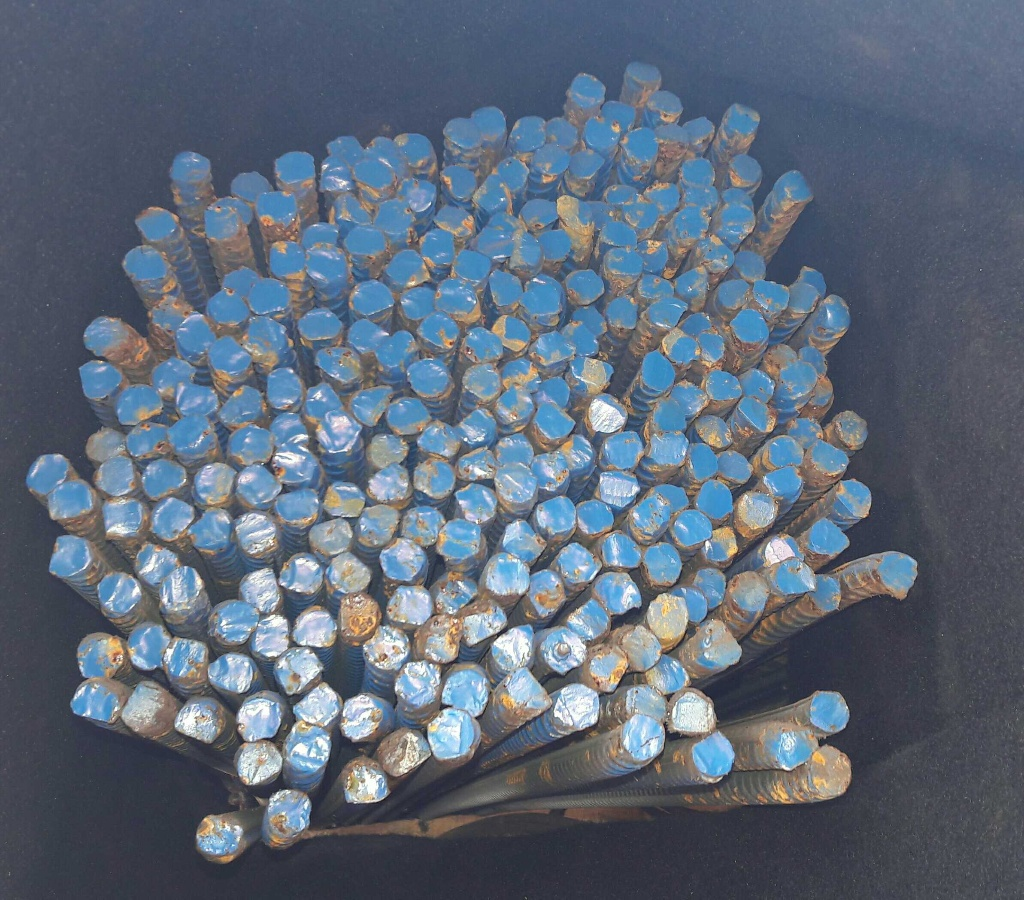dipstick: (429, 709, 480, 761), (805, 745, 852, 798), (282, 722, 331, 772), (380, 727, 430, 776), (669, 687, 717, 736), (121, 681, 168, 731), (174, 694, 221, 743), (70, 679, 120, 723), (276, 647, 323, 693), (554, 683, 600, 730), (540, 629, 586, 676), (458, 600, 508, 643), (77, 633, 123, 679), (594, 572, 642, 616), (191, 462, 237, 507), (337, 592, 380, 640), (566, 598, 611, 643), (293, 683, 339, 727), (506, 667, 553, 710), (428, 571, 476, 613), (115, 384, 164, 425), (210, 601, 259, 642), (697, 620, 741, 665), (235, 740, 281, 783), (364, 627, 410, 670), (396, 661, 442, 704), (491, 624, 534, 670), (127, 623, 168, 671), (152, 358, 196, 402), (355, 505, 400, 548), (380, 538, 425, 581), (387, 584, 434, 625), (440, 670, 487, 711), (137, 542, 180, 586), (190, 507, 234, 550), (163, 638, 208, 680), (623, 714, 665, 759), (340, 695, 381, 741), (620, 626, 661, 672), (877, 553, 918, 599), (587, 645, 627, 692), (227, 424, 275, 463), (292, 607, 337, 648), (493, 462, 538, 503), (82, 316, 128, 356), (196, 815, 242, 855), (422, 615, 462, 661), (237, 510, 279, 553), (149, 498, 193, 539), (159, 566, 203, 607), (209, 653, 253, 694), (239, 568, 280, 612), (367, 464, 413, 503), (342, 766, 390, 803), (269, 790, 310, 833), (693, 732, 734, 775), (503, 520, 543, 564), (235, 465, 280, 504), (141, 458, 187, 496), (49, 535, 90, 577), (99, 571, 141, 612), (281, 552, 323, 593), (777, 728, 818, 770), (250, 615, 290, 658), (647, 654, 690, 694), (558, 542, 601, 582), (272, 444, 316, 483), (648, 593, 687, 637), (436, 519, 481, 557), (528, 569, 566, 614), (167, 416, 214, 452), (414, 458, 455, 499), (738, 490, 779, 531), (245, 317, 285, 359), (26, 453, 69, 492), (237, 700, 280, 739), (306, 243, 349, 282), (486, 557, 529, 596), (79, 360, 123, 398), (315, 410, 359, 448), (102, 496, 142, 537), (328, 553, 369, 593), (407, 357, 450, 395), (148, 295, 192, 332), (48, 481, 92, 518), (387, 398, 431, 435), (455, 409, 499, 446), (122, 245, 167, 281), (178, 314, 219, 353), (456, 484, 497, 523), (572, 355, 613, 394), (810, 690, 849, 731), (602, 431, 644, 469), (773, 556, 815, 594), (387, 249, 430, 286), (218, 386, 262, 422), (596, 470, 640, 506), (315, 347, 361, 381), (210, 337, 251, 375), (536, 399, 574, 440), (625, 686, 667, 723), (348, 281, 395, 314), (207, 288, 250, 324), (310, 517, 353, 553), (435, 278, 478, 314), (401, 507, 440, 546), (730, 571, 769, 610), (352, 387, 392, 425), (462, 361, 502, 399), (419, 312, 459, 350), (266, 369, 303, 410), (644, 543, 681, 584), (462, 326, 503, 363), (324, 481, 366, 517), (417, 422, 459, 458), (175, 382, 218, 417), (126, 421, 169, 456), (249, 278, 292, 313), (496, 386, 535, 424), (588, 394, 627, 432), (95, 459, 135, 496), (834, 479, 871, 519), (671, 510, 712, 546), (810, 295, 851, 331), (537, 496, 576, 533), (634, 494, 671, 533), (737, 396, 776, 433), (473, 174, 509, 214), (807, 440, 849, 474), (86, 427, 129, 460), (453, 448, 497, 480), (565, 269, 603, 306), (376, 331, 415, 367), (521, 280, 560, 316), (810, 518, 850, 553), (135, 207, 178, 239), (532, 332, 575, 364), (272, 413, 310, 449), (562, 321, 600, 357), (348, 319, 389, 352), (276, 490, 319, 521), (298, 308, 341, 339), (558, 435, 594, 472), (477, 224, 514, 260), (492, 315, 530, 350), (691, 569, 725, 608), (500, 359, 539, 393), (698, 480, 732, 519), (697, 236, 735, 270), (650, 430, 688, 464), (695, 414, 733, 448), (369, 435, 408, 468), (353, 158, 394, 189), (434, 204, 475, 235), (420, 229, 455, 265), (604, 533, 640, 568), (738, 368, 773, 404), (763, 533, 805, 563), (674, 586, 708, 623), (663, 329, 700, 363), (780, 360, 817, 394), (376, 199, 414, 232), (575, 500, 613, 533), (648, 295, 686, 328), (808, 573, 841, 611), (257, 192, 296, 224), (642, 351, 674, 390), (344, 223, 387, 252), (400, 286, 436, 320), (568, 72, 604, 106), (754, 279, 790, 313), (731, 308, 767, 342), (717, 451, 753, 485), (723, 103, 760, 136), (444, 117, 482, 149), (270, 241, 305, 275), (395, 133, 430, 167), (652, 398, 687, 432), (274, 152, 315, 181), (511, 116, 547, 149), (584, 115, 620, 148), (398, 179, 435, 211), (718, 203, 756, 234), (836, 410, 867, 448), (231, 172, 270, 202), (519, 199, 558, 229), (170, 152, 210, 181), (623, 126, 657, 160), (672, 381, 706, 415), (558, 195, 593, 228), (623, 196, 658, 229), (705, 526, 737, 562), (688, 443, 720, 479), (490, 269, 521, 306), (532, 144, 570, 174), (441, 165, 475, 198), (571, 147, 605, 180), (605, 248, 645, 276), (779, 170, 814, 202), (675, 206, 710, 238), (673, 265, 708, 297), (204, 207, 240, 238), (497, 433, 533, 464), (768, 436, 804, 467), (787, 418, 823, 449), (705, 370, 742, 400), (695, 330, 726, 365), (766, 466, 802, 496), (602, 220, 639, 249), (307, 384, 340, 416), (538, 229, 571, 261), (765, 344, 798, 376), (472, 106, 506, 137), (548, 116, 578, 151), (453, 251, 491, 278), (606, 296, 637, 329), (656, 125, 689, 156), (729, 155, 762, 186), (638, 240, 669, 273), (644, 182, 680, 210), (653, 484, 689, 512), (496, 157, 528, 188), (603, 100, 634, 132), (638, 274, 676, 300), (736, 250, 766, 282), (797, 346, 827, 378), (680, 158, 714, 186), (625, 61, 660, 88), (539, 378, 570, 408), (718, 280, 751, 308), (648, 90, 682, 117), (788, 284, 819, 313), (322, 166, 355, 191), (327, 134, 360, 159), (685, 117, 714, 145), (800, 267, 826, 298), (303, 223, 338, 245), (722, 188, 753, 211), (605, 185, 638, 206)
